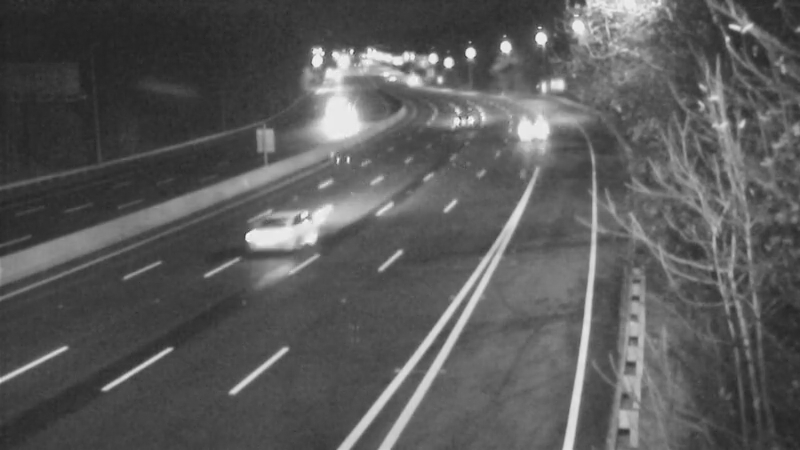vehicle: (237, 182, 317, 262), (384, 57, 434, 107), (498, 103, 548, 153), (442, 94, 492, 144), (318, 94, 368, 144)
